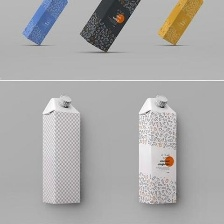carton: (127, 93, 181, 208), (39, 91, 85, 207), (77, 0, 144, 54), (149, 0, 207, 46), (20, 0, 70, 46)
